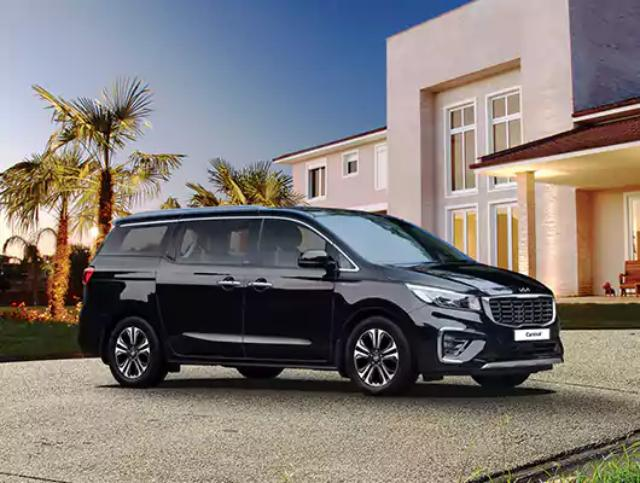kia: (78, 207, 564, 397)
